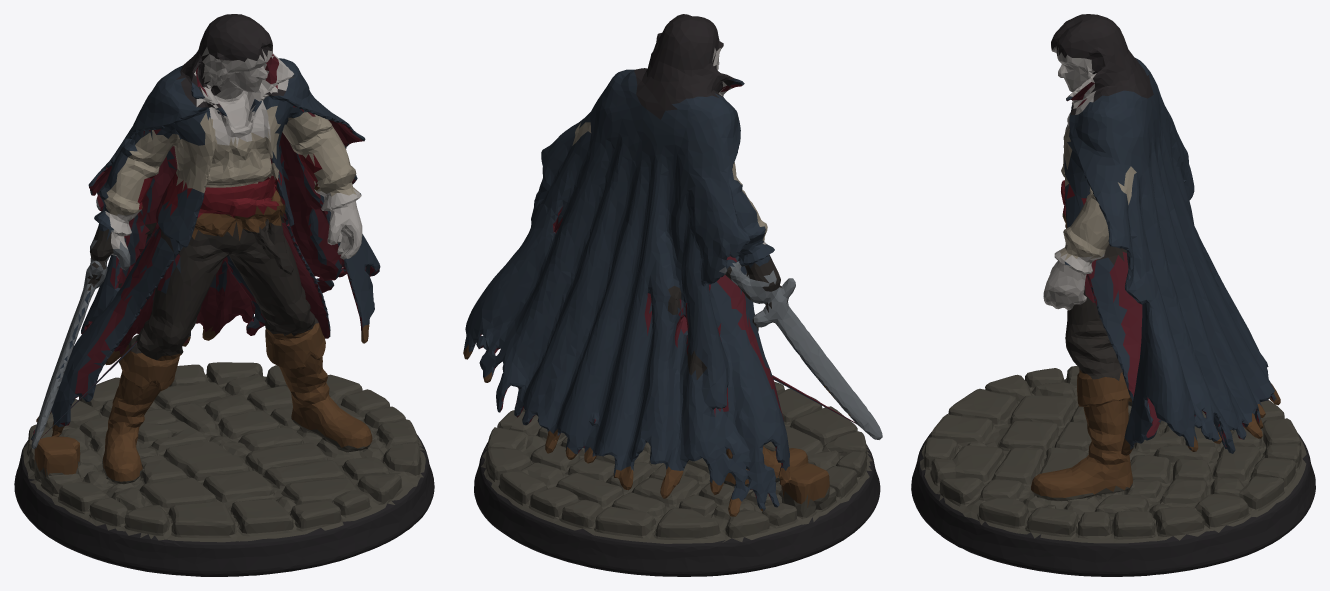
Rendered from vampiro.glb.
3 views of the same model, side by side, from view 1: azimuth 30°, elevation 25°; view 2: azimuth 150°, elevation 25°; view 3: azimuth 270°, elevation 25° (orthographic). The views are drawn at different scales.
Visible parts, largest first — view 1: tmp6leakiis.ply; view 2: tmp6leakiis.ply; view 3: tmp6leakiis.ply.
Part boxes in pixels (x1,y1,x2,y2): tmp6leakiis.ply: (14,14,434,576); tmp6leakiis.ply: (463,14,882,576); tmp6leakiis.ply: (911,14,1315,576).
Bounding box in the file's own units: 1.64 × 1.96 × 1.51.
